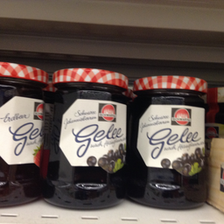jam: (44, 67, 129, 211), (128, 74, 209, 211), (1, 62, 48, 210)
